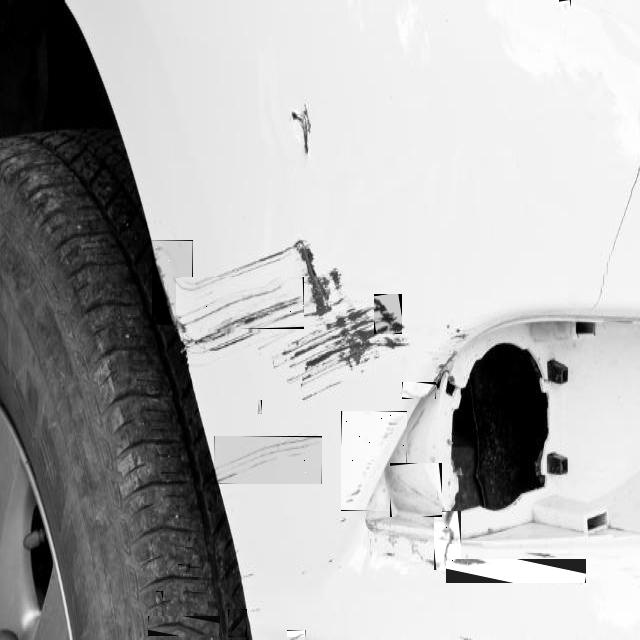Dent: (176, 278, 304, 332), (341, 411, 407, 511), (214, 436, 322, 484), (152, 240, 193, 325), (446, 559, 586, 583), (390, 463, 442, 517), (434, 511, 461, 570), (148, 616, 220, 636), (374, 294, 402, 334), (402, 382, 436, 399), (228, 609, 247, 637), (346, 482, 366, 500), (287, 630, 306, 637), (559, 0, 571, 9), (178, 564, 190, 572), (156, 591, 163, 604), (258, 400, 262, 414), (126, 220, 131, 228)
